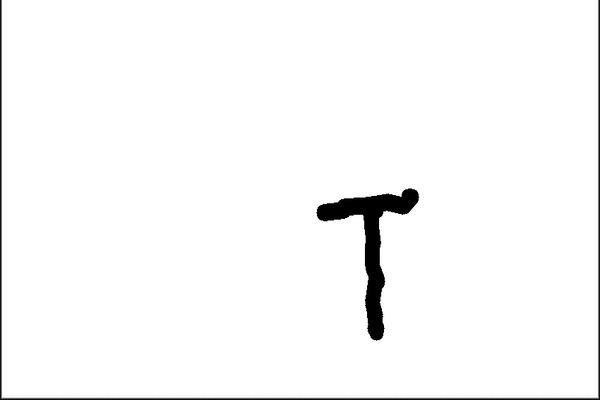T: (313, 183, 421, 342)
